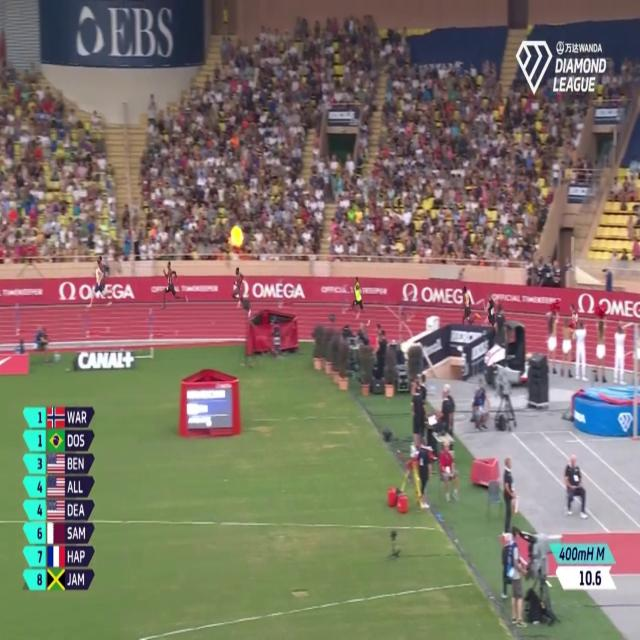athlete: (158, 260, 190, 321), (346, 274, 373, 329), (455, 284, 478, 346), (88, 259, 107, 311), (232, 266, 251, 316)
hurdle: (139, 300, 162, 344), (77, 298, 94, 347), (13, 298, 27, 338)
